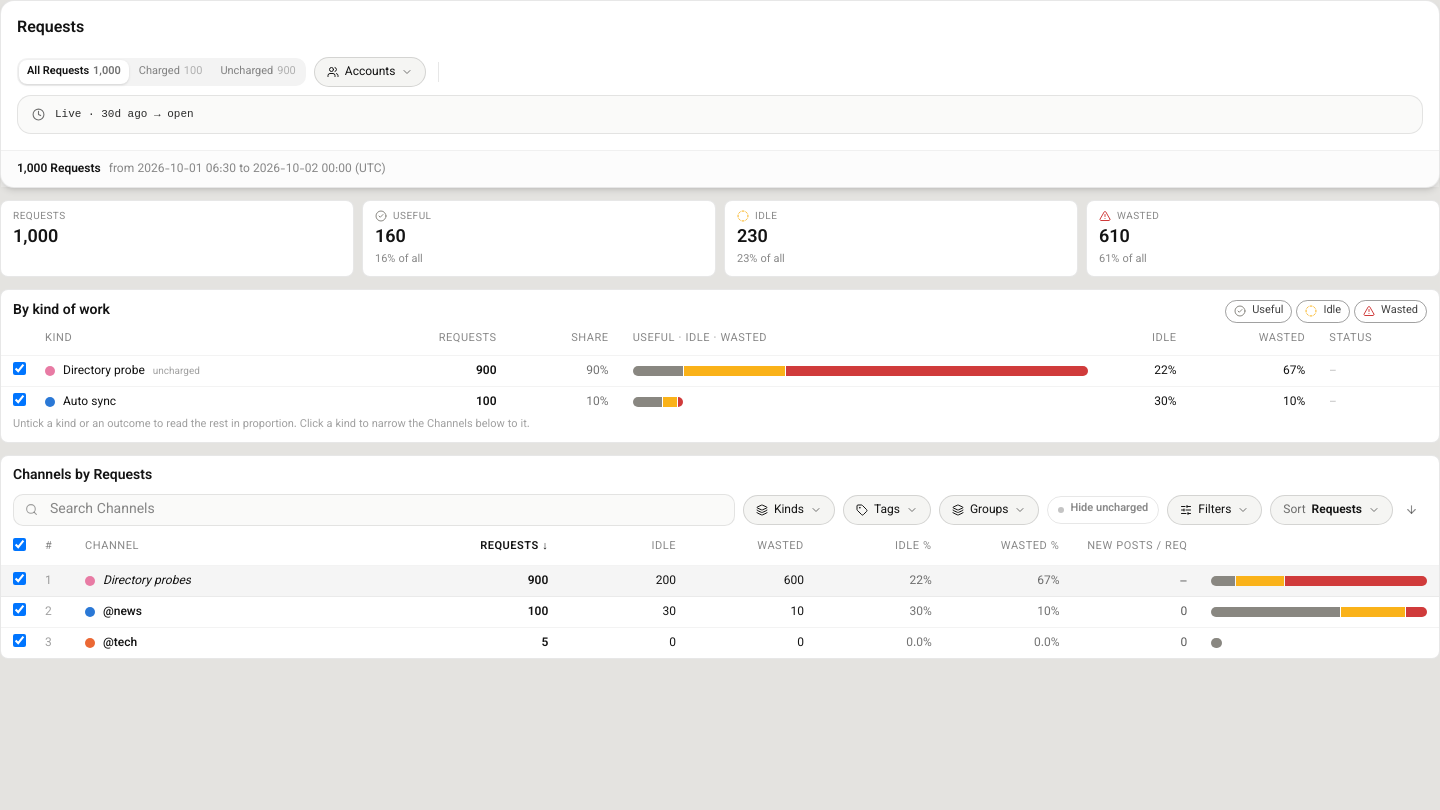
Test: RequestsView › a kind's Show box hides it from every share, and marks it uncharged
Expected: the row named "Show Directory probe" shows "uncharged", [153,364,200,378]
Click the checkbox named "Show Directory probe" at [20, 368], box [13,362,26,374]
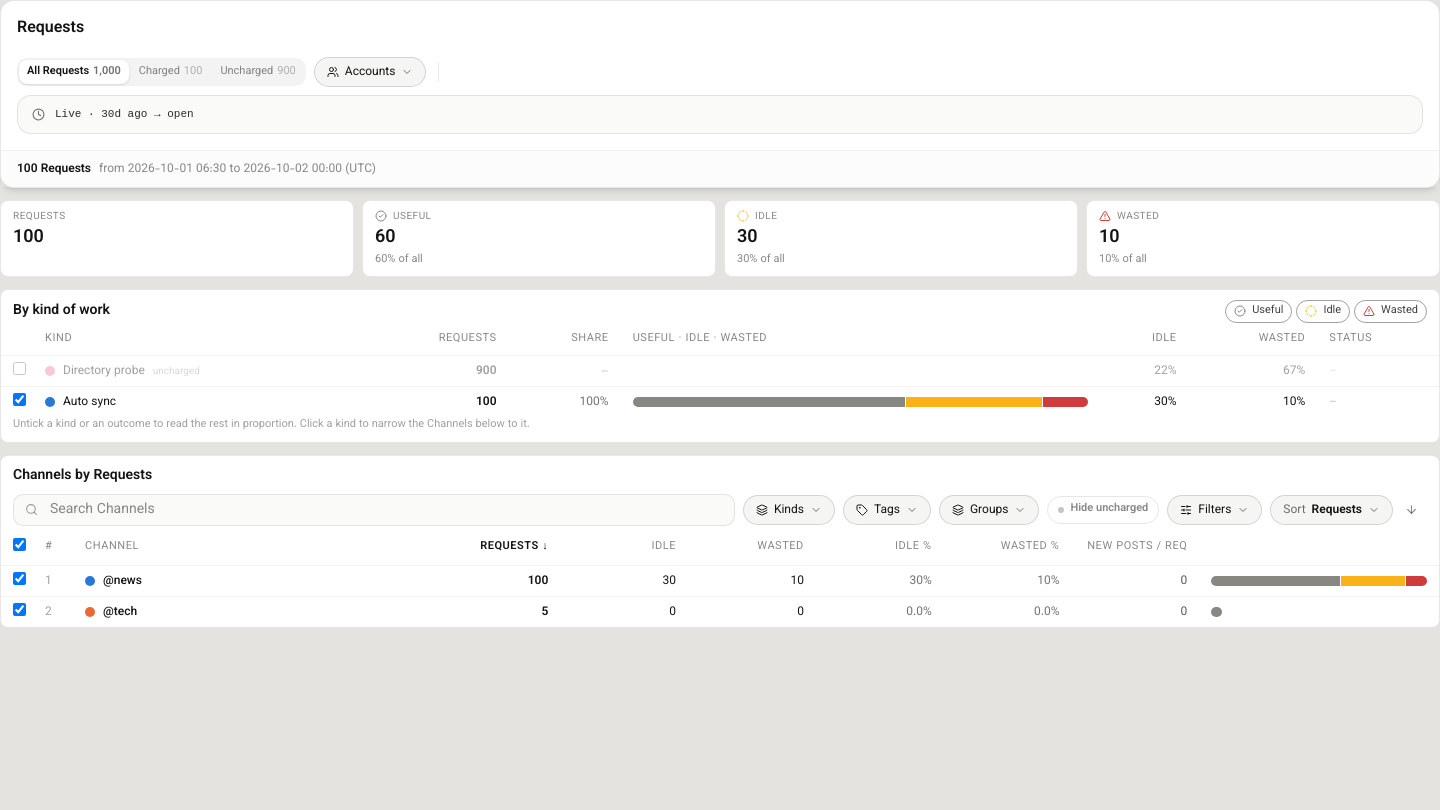
Now the text "Directory probes" is gone
